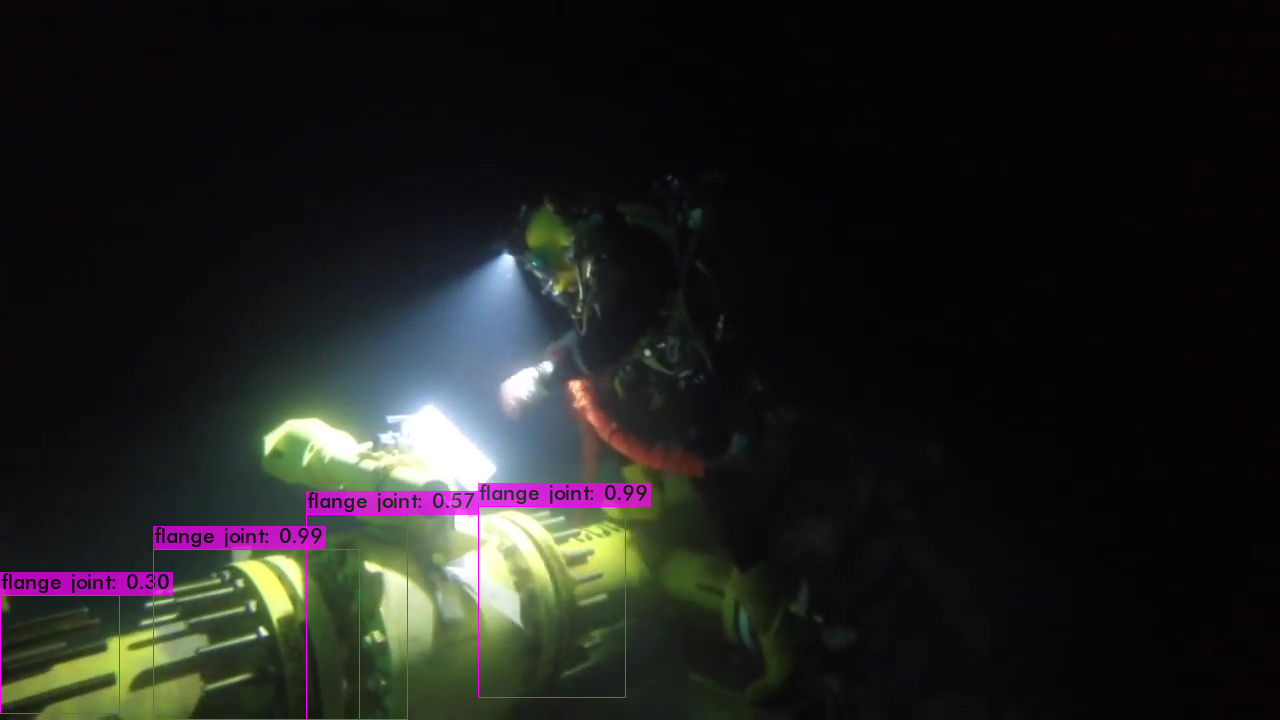flange joint: (151, 556, 351, 720), (480, 504, 617, 708)
